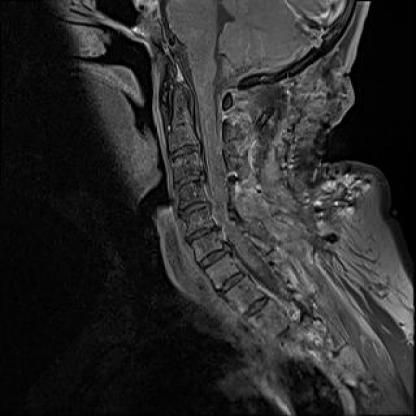Disc Protrusionrotation: (194, 247, 234, 265), (183, 225, 221, 242), (171, 172, 205, 189), (177, 201, 213, 217)
Osteophytesrotation: (183, 225, 221, 242), (171, 172, 205, 189)
